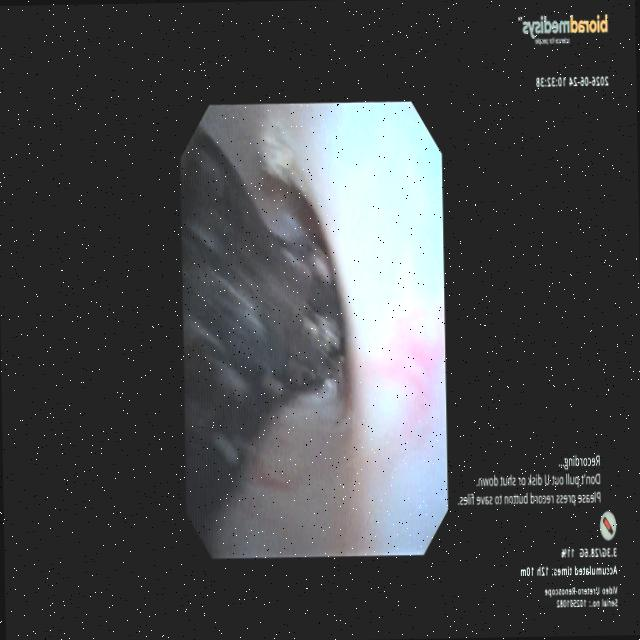stone-new: (181, 127, 344, 537)
